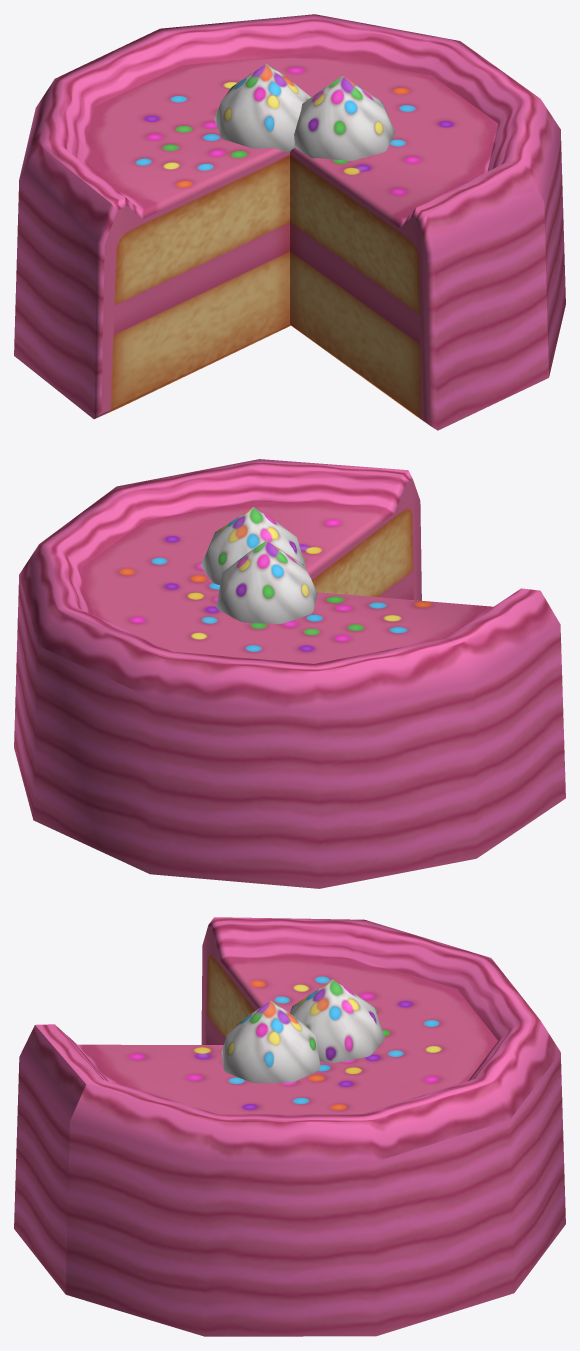
File: BDayCake_Cut.fbx
3 renders of one model, top to bottom at view 1: azimuth 30°, elevation 25°; view 2: azimuth 150°, elevation 25°; view 3: azimuth 270°, elevation 25°, orthographic.
Parts seen in each view (by area): view 1: BDayCake_Cut; view 2: BDayCake_Cut; view 3: BDayCake_Cut.
Boxes of the visible parts, box(x1,y1,x2,y2) form: BDayCake_Cut: box(14, 14, 565, 430); BDayCake_Cut: box(14, 459, 565, 888); BDayCake_Cut: box(14, 917, 565, 1336).
Size of the model in its own units: 80.15 by 40.71 by 82.78.
